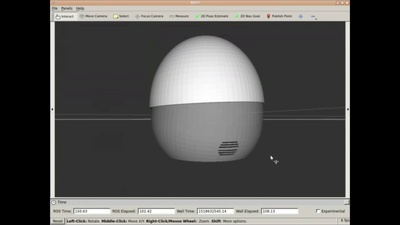mira_robot: (149, 35, 264, 164)
